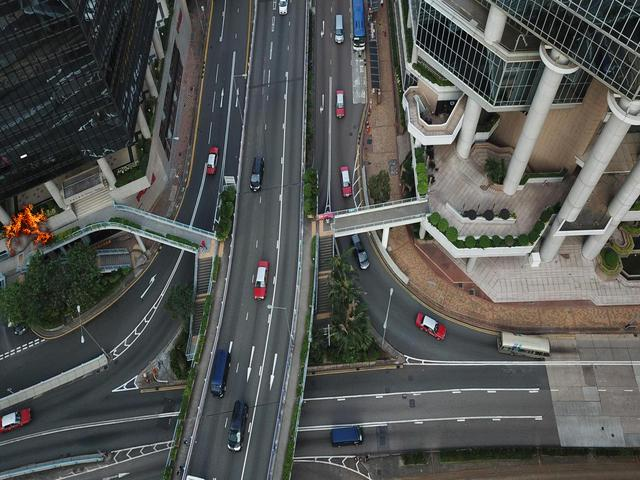fire: (1, 202, 55, 258)
